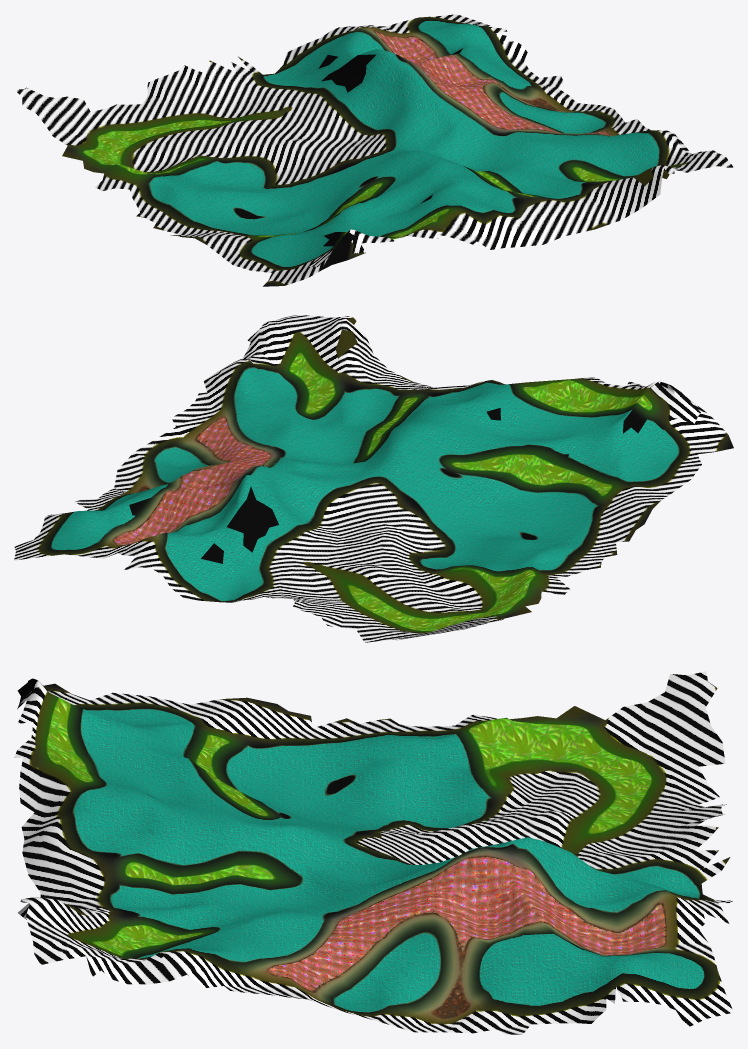
Rendered from terrain.glb.
The picture shows the model from 3 angles, top to bottom: view 1: azimuth 30°, elevation 25°; view 2: azimuth 150°, elevation 25°; view 3: azimuth 270°, elevation 25°; orthographic projection. The views are drawn at different scales.
Parts seen in each view (by area): view 1: Plane.001; view 2: Plane.001; view 3: Plane.001.
Part boxes in pixels (x1,y1,x2,y2): Plane.001: (14,14,733,286); Plane.001: (14,315,733,642); Plane.001: (14,671,733,1034).
Size of the model in its own units: 42.56 by 7.14 by 42.73.
Materials: 1 (1 with a texture image).
